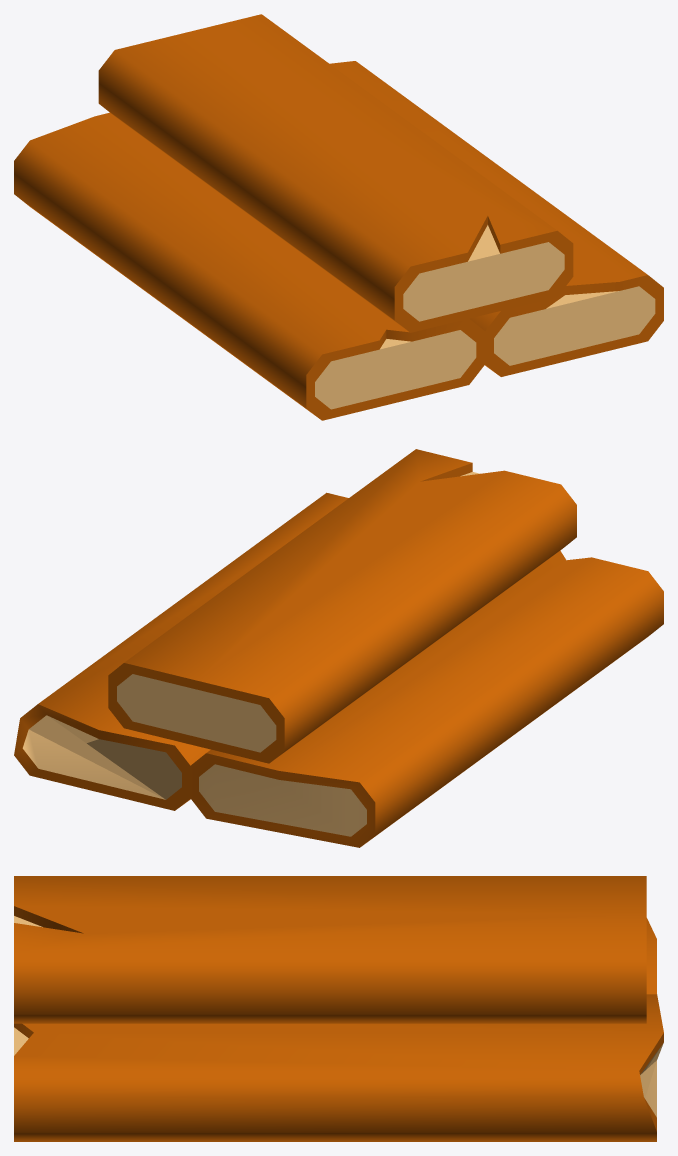
The model's file is Collectable_Wood_Plank_01.fbx.
The picture shows the model from 3 angles, top to bottom: view 1: azimuth 30°, elevation 25°; view 2: azimuth 150°, elevation 25°; view 3: azimuth 270°, elevation 25°; orthographic projection. The views are drawn at different scales.
Visible parts, largest first — view 1: Collectable_Wood_Plank_01; view 2: Collectable_Wood_Plank_01; view 3: Collectable_Wood_Plank_01.
Part boxes in pixels (bbox=[...]): Collectable_Wood_Plank_01: bbox=[14, 14, 663, 420]; Collectable_Wood_Plank_01: bbox=[14, 449, 663, 847]; Collectable_Wood_Plank_01: bbox=[14, 876, 663, 1141].
Size of the model in its own units: 60.75 by 21.54 by 89.45.
